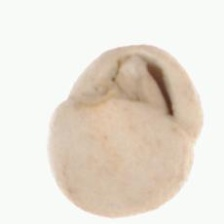L3: (104, 51, 176, 117)
L4: (49, 44, 204, 217)
